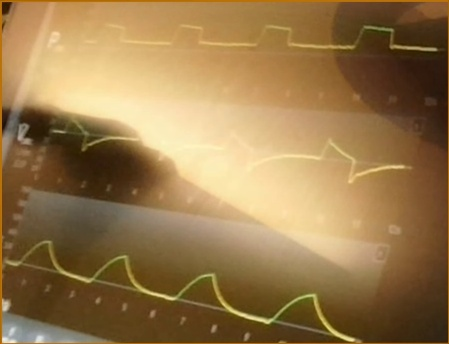Normal Flow: (55, 105, 405, 192)
Normal Volume: (6, 236, 354, 341)
